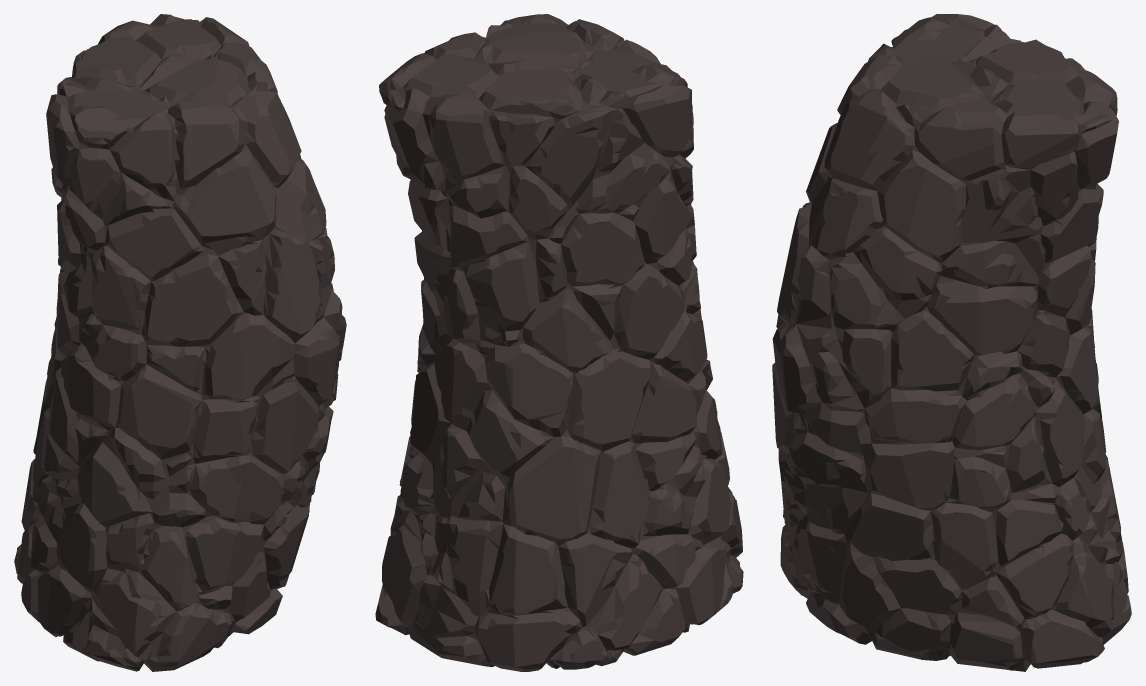
File: StoneBig04.fbx
3 renders of one model, left to right at view 1: azimuth 30°, elevation 25°; view 2: azimuth 150°, elevation 25°; view 3: azimuth 270°, elevation 25°, orthographic. The views are drawn at different scales.
Visible parts, largest first — view 1: Cylinder.003; view 2: Cylinder.003; view 3: Cylinder.003.
Part boxes in pixels (left/top/right/bottom): Cylinder.003: left=14, top=14, right=346, bottom=671; Cylinder.003: left=375, top=14, right=743, bottom=671; Cylinder.003: left=772, top=14, right=1131, bottom=671.
Bounding box in the file's own units: 215 × 417 × 242.
